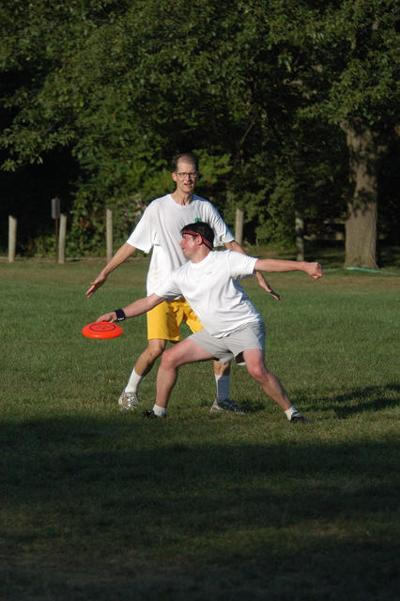person: (97, 219, 323, 426)
